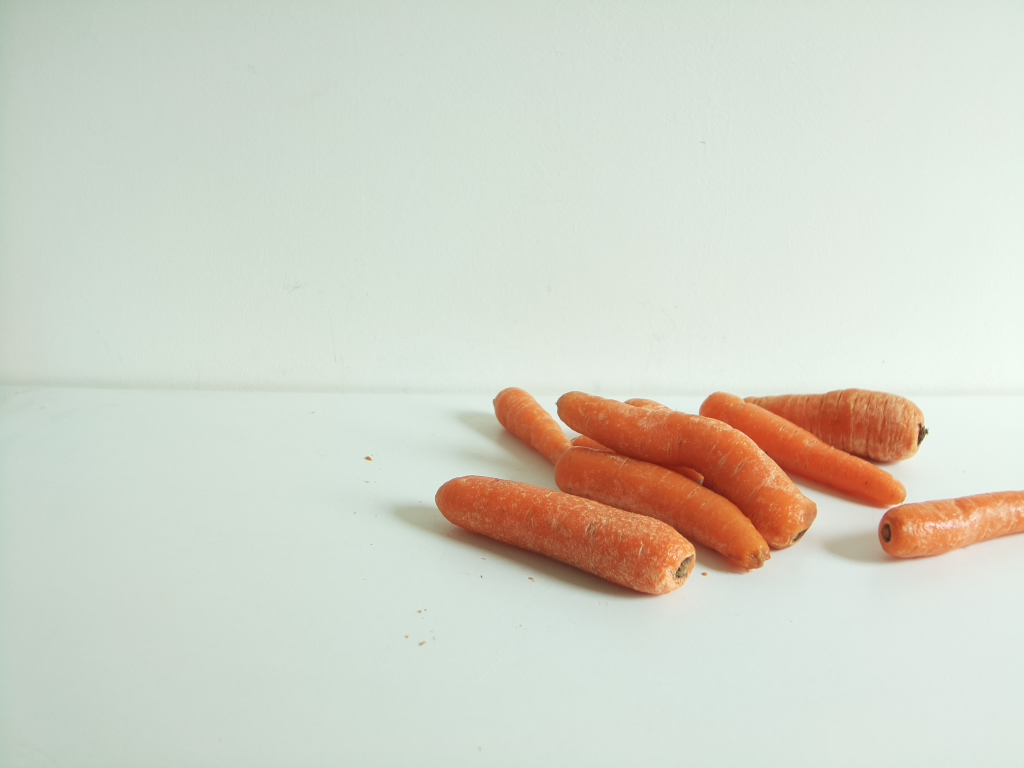carrot: (433, 391, 1024, 596)
